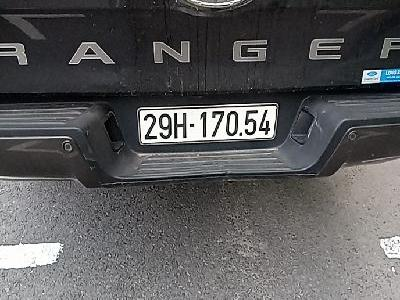lisence: (135, 100, 280, 148)
